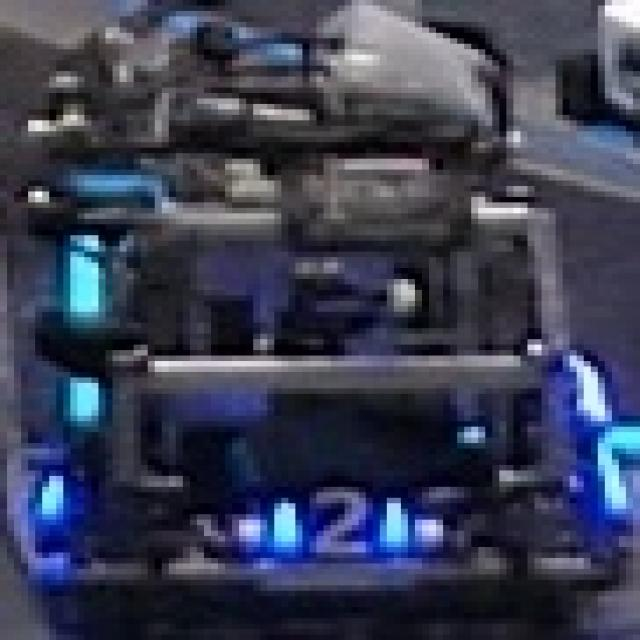B2: (267, 482, 415, 564)
